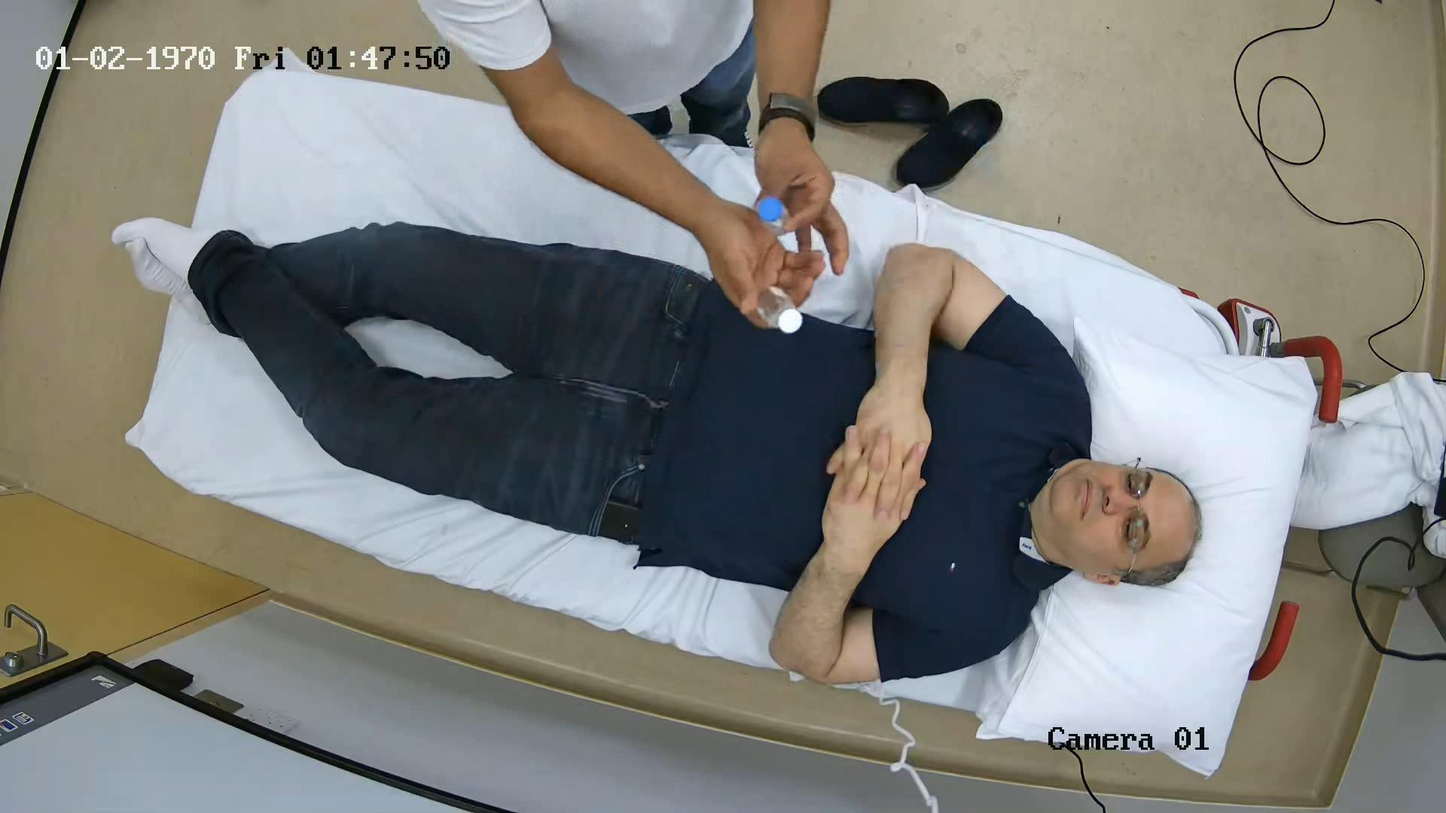bed: (127, 70, 1339, 775)
patient: (188, 223, 1200, 684)
